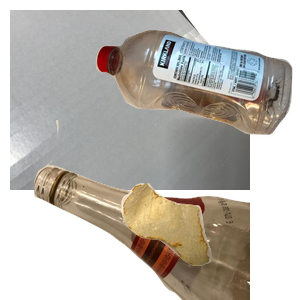cardboard: (10, 10, 250, 190)
glass: (31, 120, 271, 300)
plastic: (93, 27, 300, 154)
trash: (119, 181, 300, 300)
